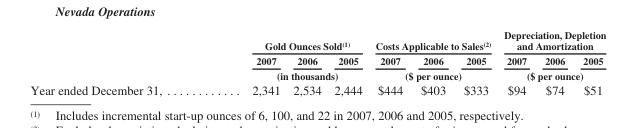table: (29, 29, 605, 96)
table column: (29, 29, 206, 96), (206, 29, 286, 96), (368, 29, 411, 96), (411, 29, 454, 96), (454, 29, 496, 96), (286, 29, 327, 96), (327, 29, 368, 96), (496, 29, 535, 96), (535, 29, 573, 96), (573, 29, 605, 96)
table column header: (29, 29, 605, 81)
table row: (29, 29, 605, 52), (29, 52, 605, 67), (29, 81, 605, 96), (29, 67, 605, 81)
table spanning cell: (206, 29, 368, 52), (368, 29, 496, 52), (496, 29, 605, 52), (206, 67, 368, 81), (368, 67, 496, 81), (496, 67, 605, 81)
